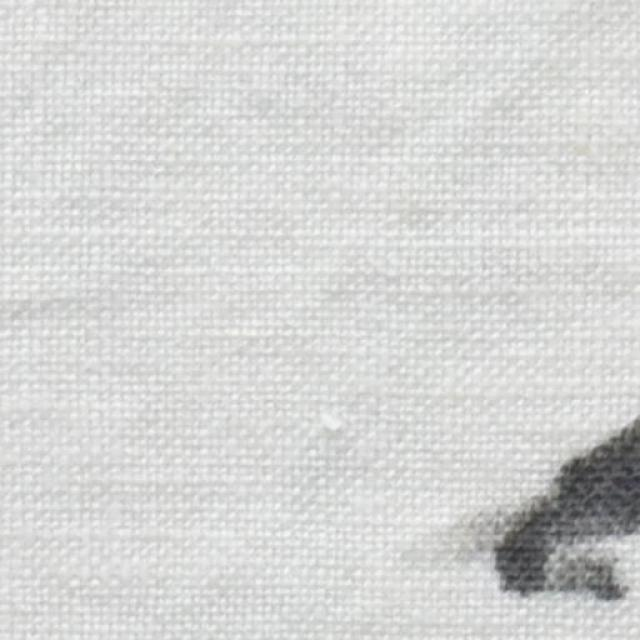Stain: (442, 412, 640, 604)
